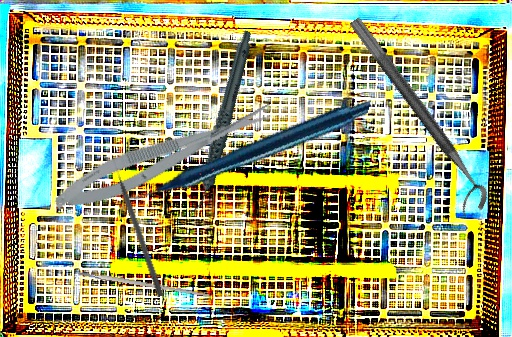Fixation Ring: (333, 15, 495, 221)
Handpiece: (121, 43, 372, 256), (154, 30, 288, 216)
Micro Scissor: (47, 95, 281, 221)
Pusher: (110, 158, 166, 298)
Scalpel Handle: (75, 269, 212, 299)
